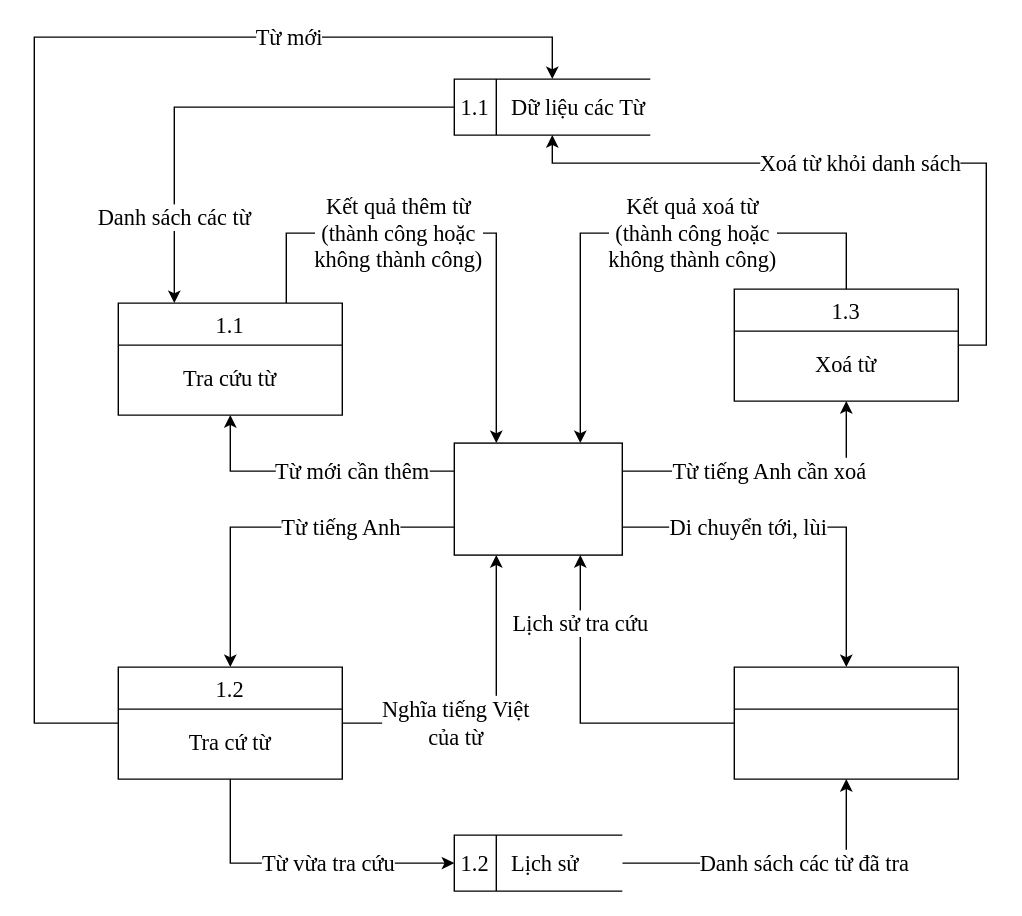
Some shapes in this 1022 by 916 pixel diagram are drawn without their labels. Each missing label, with the box of its shape:
1.4 Xem lịch sử tra cứu: (733, 666, 958, 779)
Người dùng: (453, 442, 622, 555)
